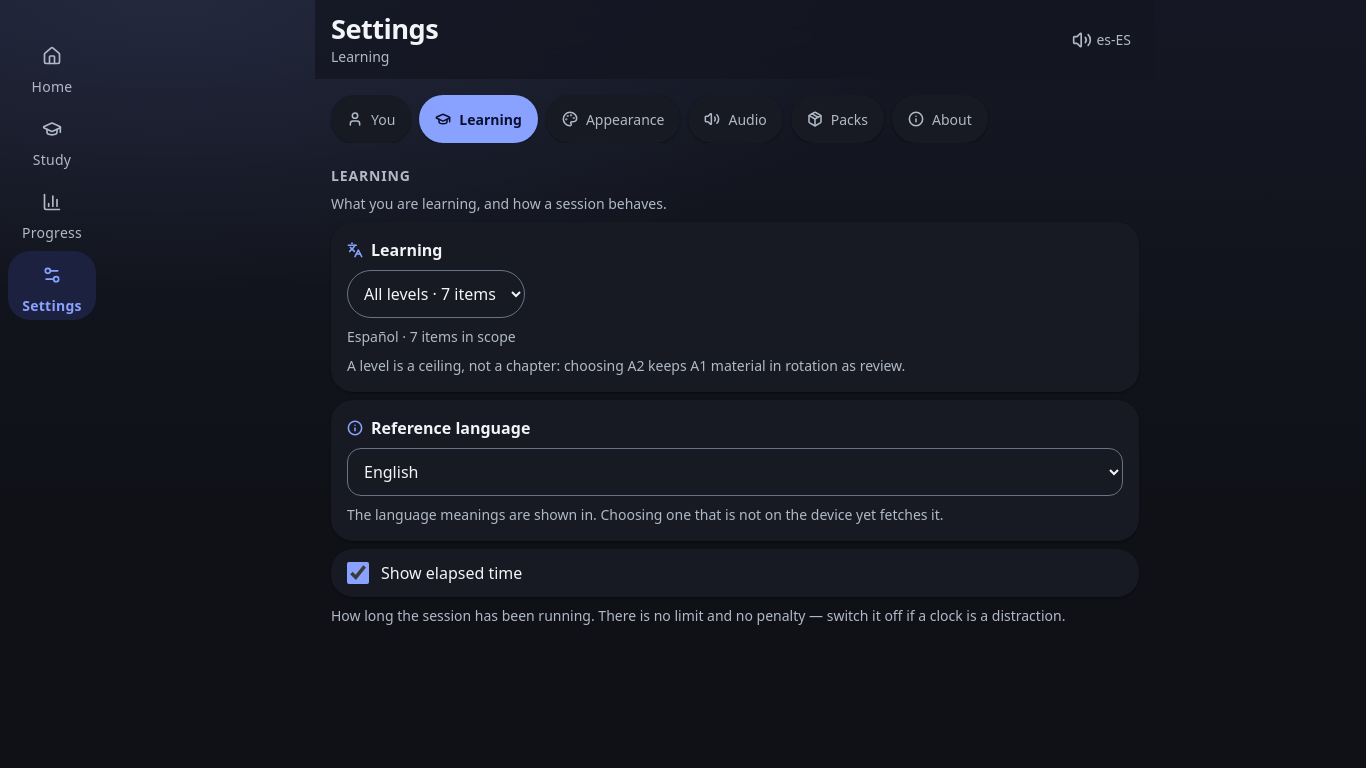
Scenario: the settings sections › changes section by navigation, so the choice survives a reload
What coordinates should you click on to do the following:
click the link "About"
I would click on:
 (940, 119)
Its box is [892, 95, 988, 143].
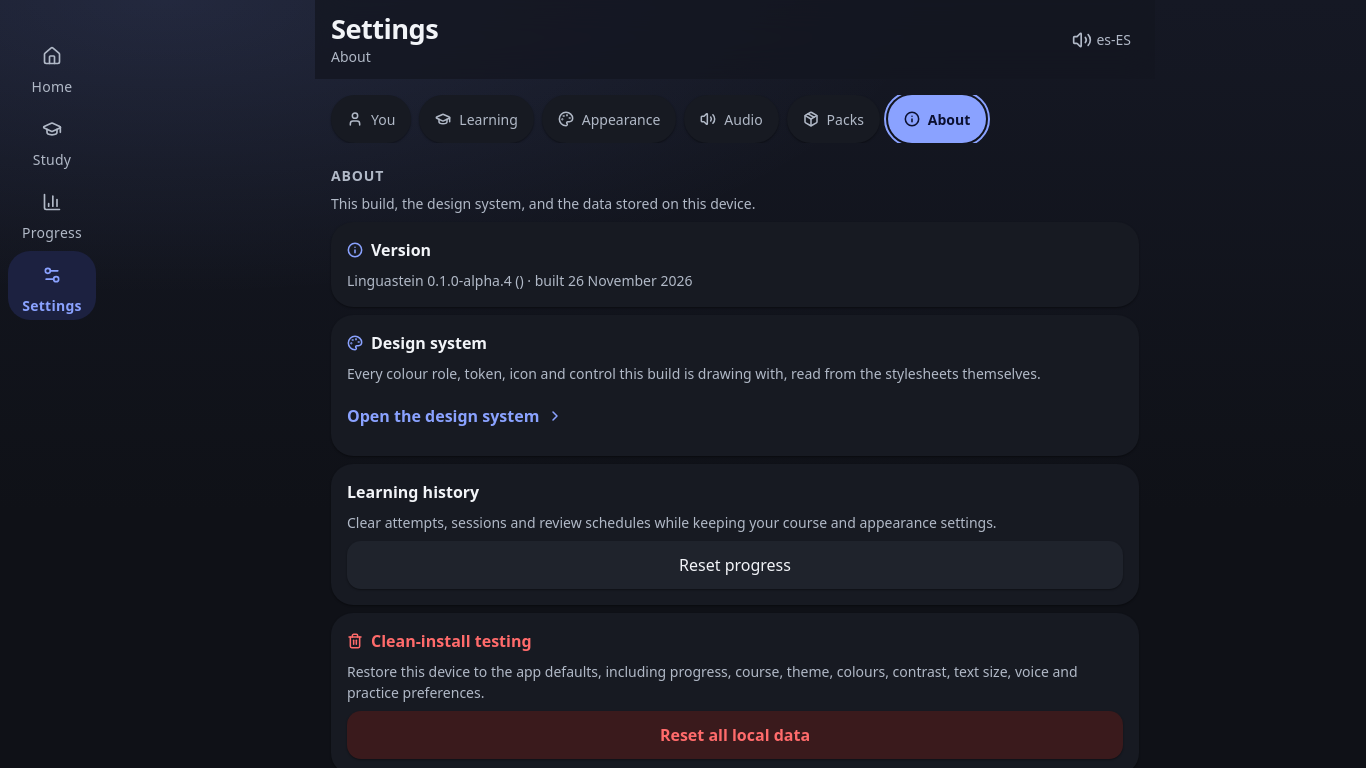
Check: the button "Reset progress" is shown, box [347, 540, 1123, 588]
